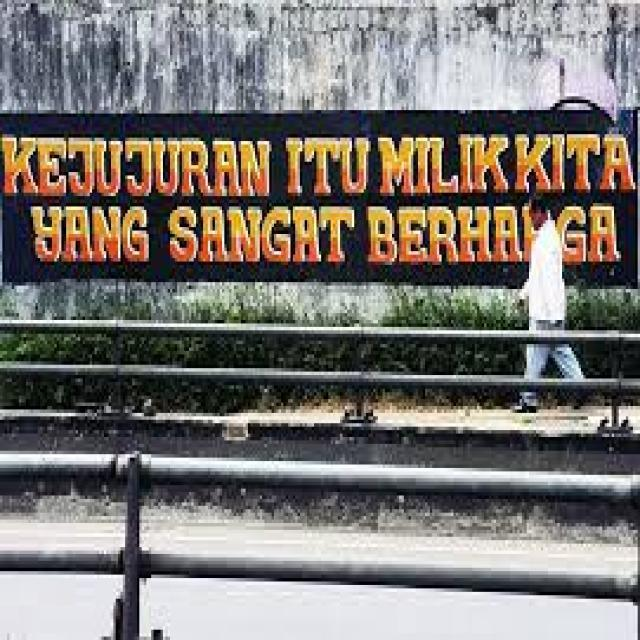-: (0, 136, 638, 266)
